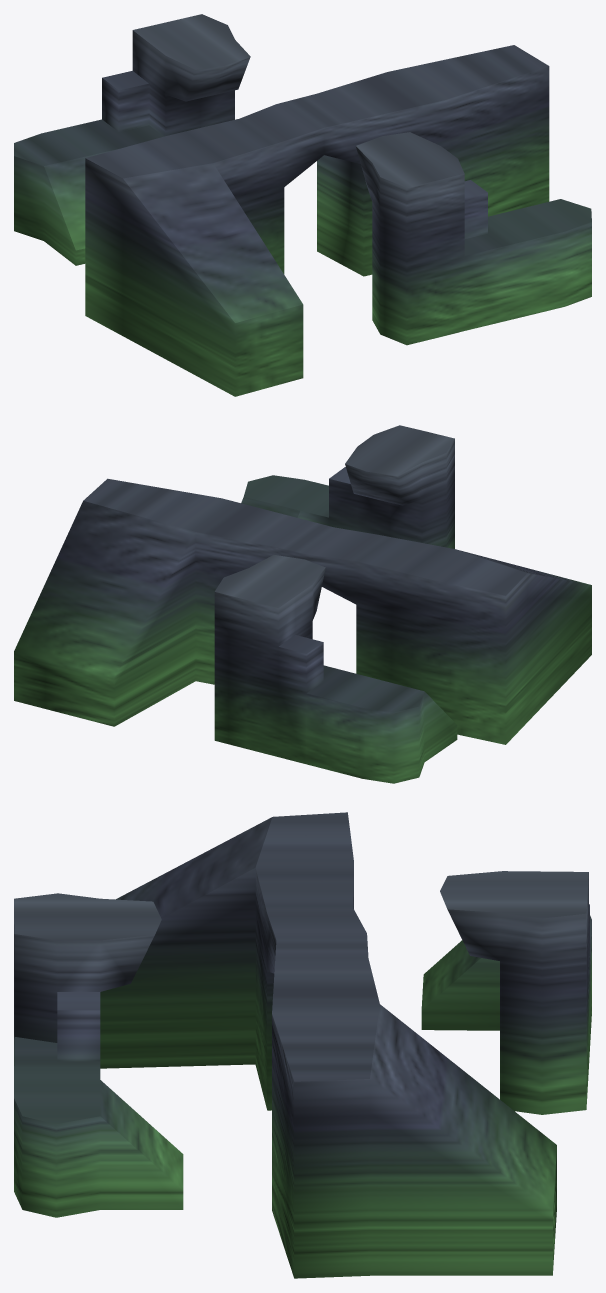
The model's file is Selva01.fbx.
3 views of the same model, one above another, from view 1: azimuth 30°, elevation 25°; view 2: azimuth 150°, elevation 25°; view 3: azimuth 270°, elevation 25° (orthographic). The views are drawn at different scales.
Visible parts, largest first — view 1: Selva01; view 2: Selva01; view 3: Selva01.
Boxes of the visible parts, box(x1,y1,x2,y2) form: Selva01: box(14, 14, 591, 396); Selva01: box(14, 425, 591, 783); Selva01: box(14, 812, 591, 1278).
Bounding box in the file's own units: 58.09 × 22.61 × 52.67.
